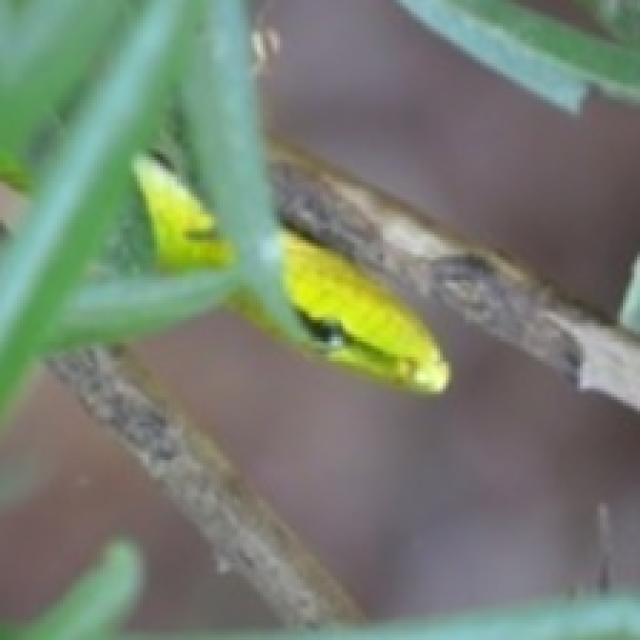red-tailed green ratsnake: (277, 226, 449, 391), (131, 154, 231, 269)
